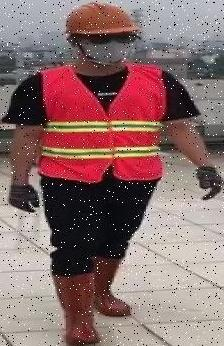boots: (52, 263, 100, 342), (89, 251, 138, 319)
gloves: (195, 166, 224, 200), (8, 184, 39, 213)
hard-hat: (65, 2, 142, 66)
vest: (46, 60, 185, 186)
